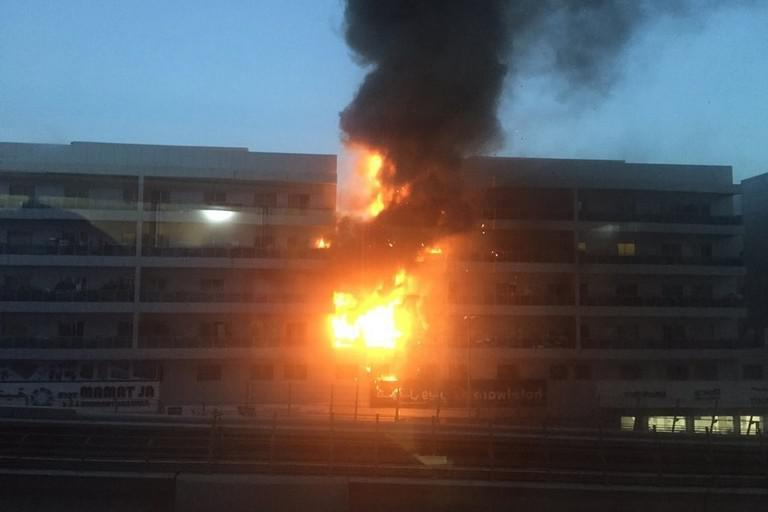Fire: (324, 275, 431, 384), (366, 150, 397, 216), (311, 236, 333, 248), (428, 244, 441, 256)
